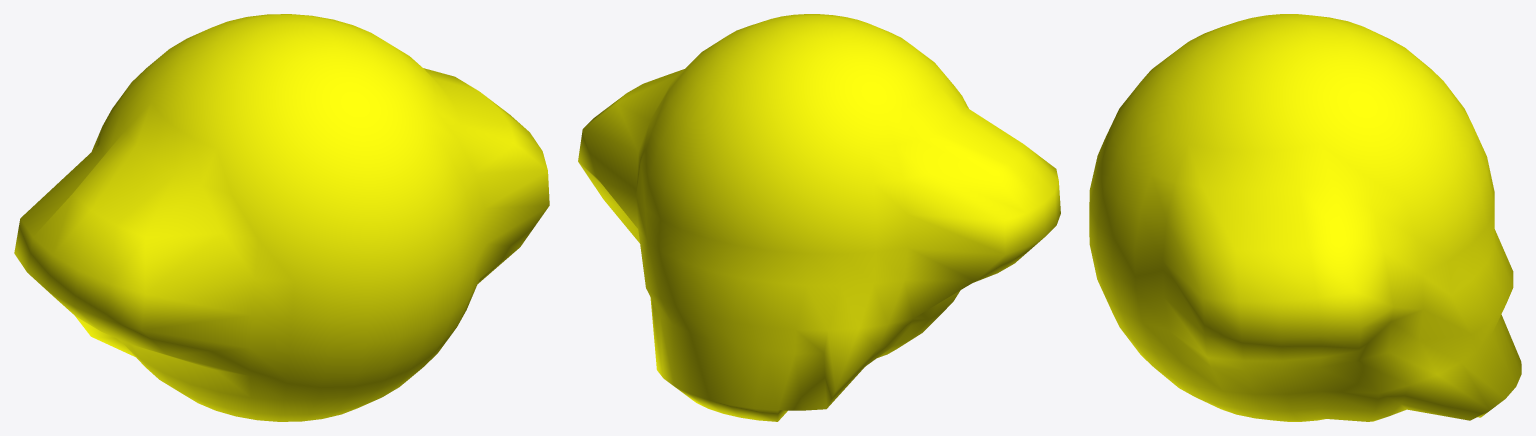
Rendered from asset.gltf.
3 renders of one model, left to right at view 1: azimuth 30°, elevation 25°; view 2: azimuth 150°, elevation 25°; view 3: azimuth 270°, elevation 25°, orthographic. The views are drawn at different scales.
Visible parts, largest first — view 1: ghost04; view 2: ghost04; view 3: ghost04.
Part boxes in pixels (left/top/right/bottom): ghost04: left=14, top=14, right=549, bottom=421; ghost04: left=578, top=14, right=1060, bottom=421; ghost04: left=1089, top=14, right=1521, bottom=421.
Size of the model in its own units: 39.35 by 28.26 by 29.87.
Materials: 1 (1 with a texture image).
